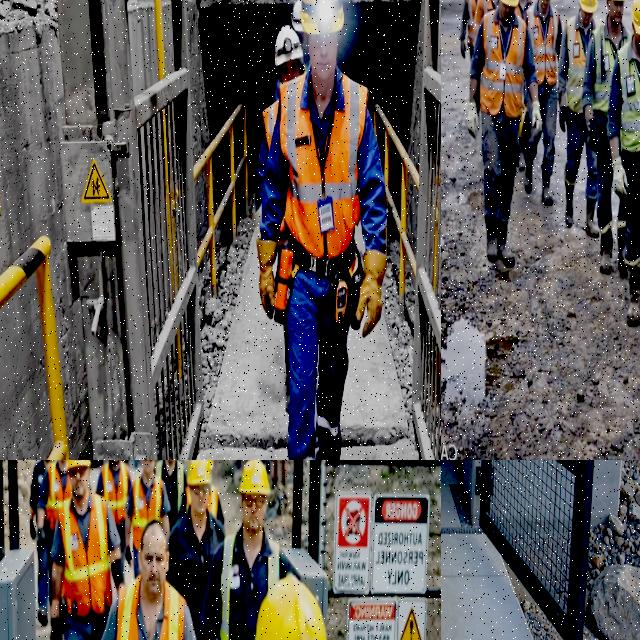Vest: (324, 75, 367, 257), (59, 495, 111, 616), (480, 10, 524, 118), (527, 5, 558, 86), (617, 40, 639, 153), (132, 477, 162, 549), (592, 23, 614, 113), (566, 16, 585, 113), (101, 462, 128, 525), (219, 535, 235, 639), (46, 463, 70, 530), (116, 577, 140, 639), (474, 0, 494, 33), (466, 0, 476, 47)
Worker: (257, 0, 385, 459), (467, 0, 540, 266), (197, 460, 286, 639), (50, 460, 123, 639), (582, 0, 628, 273), (102, 521, 194, 639), (607, 0, 639, 325), (166, 460, 223, 634), (558, 0, 598, 237), (524, 0, 561, 205), (36, 460, 70, 622), (125, 460, 169, 577), (254, 575, 326, 639), (95, 460, 131, 550), (155, 460, 184, 528), (29, 460, 51, 540), (459, 0, 477, 59), (474, 0, 498, 37), (207, 484, 224, 527)
helmet: (255, 575, 326, 639), (301, 0, 343, 34), (274, 26, 302, 66), (239, 460, 269, 495), (187, 460, 210, 486), (291, 0, 302, 32), (631, 0, 639, 34), (67, 460, 90, 470), (579, 0, 596, 13), (500, 0, 518, 7), (206, 460, 212, 470), (612, 0, 626, 1)
